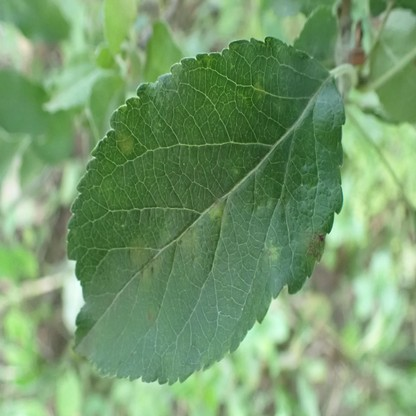scab: (137, 255, 166, 288), (128, 239, 149, 269), (178, 227, 201, 251), (308, 227, 323, 261), (210, 201, 229, 225), (117, 131, 134, 154), (254, 78, 265, 97), (266, 244, 278, 261), (147, 307, 156, 326)
